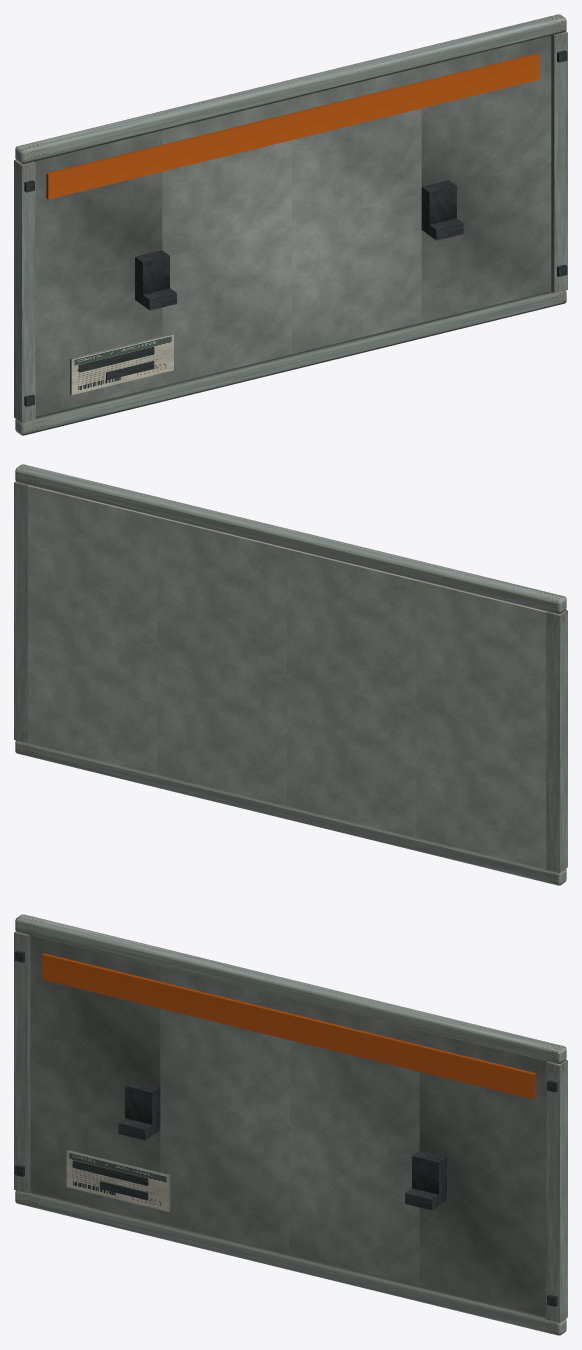
File: weapon_rack.glb
3 renders of one model, top to bottom at view 1: azimuth 30°, elevation 25°; view 2: azimuth 150°, elevation 25°; view 3: azimuth 330°, elevation 25°, orthographic.
Parts seen in each view (by area): view 1: WeaponRack; view 2: WeaponRack; view 3: WeaponRack.
Part boxes in pixels (x1=…): WeaponRack: x1=14, y1=14, x2=567, y2=435; WeaponRack: x1=14, y1=464, x2=567, y2=885; WeaponRack: x1=14, y1=914, x2=567, y2=1335.
Bounding box in the file's own units: 1.6 × 0.8 × 0.1.
Materials: 2 (1 with a texture image).
